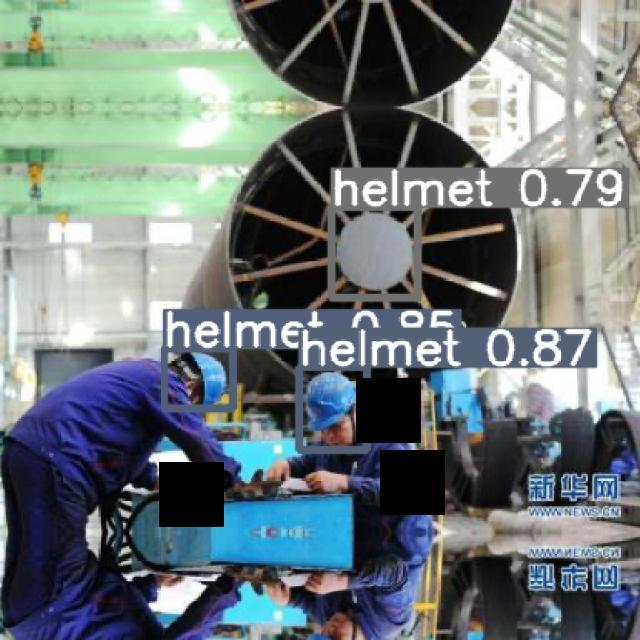blue helmet: (301, 371, 358, 427), (185, 350, 229, 406)
